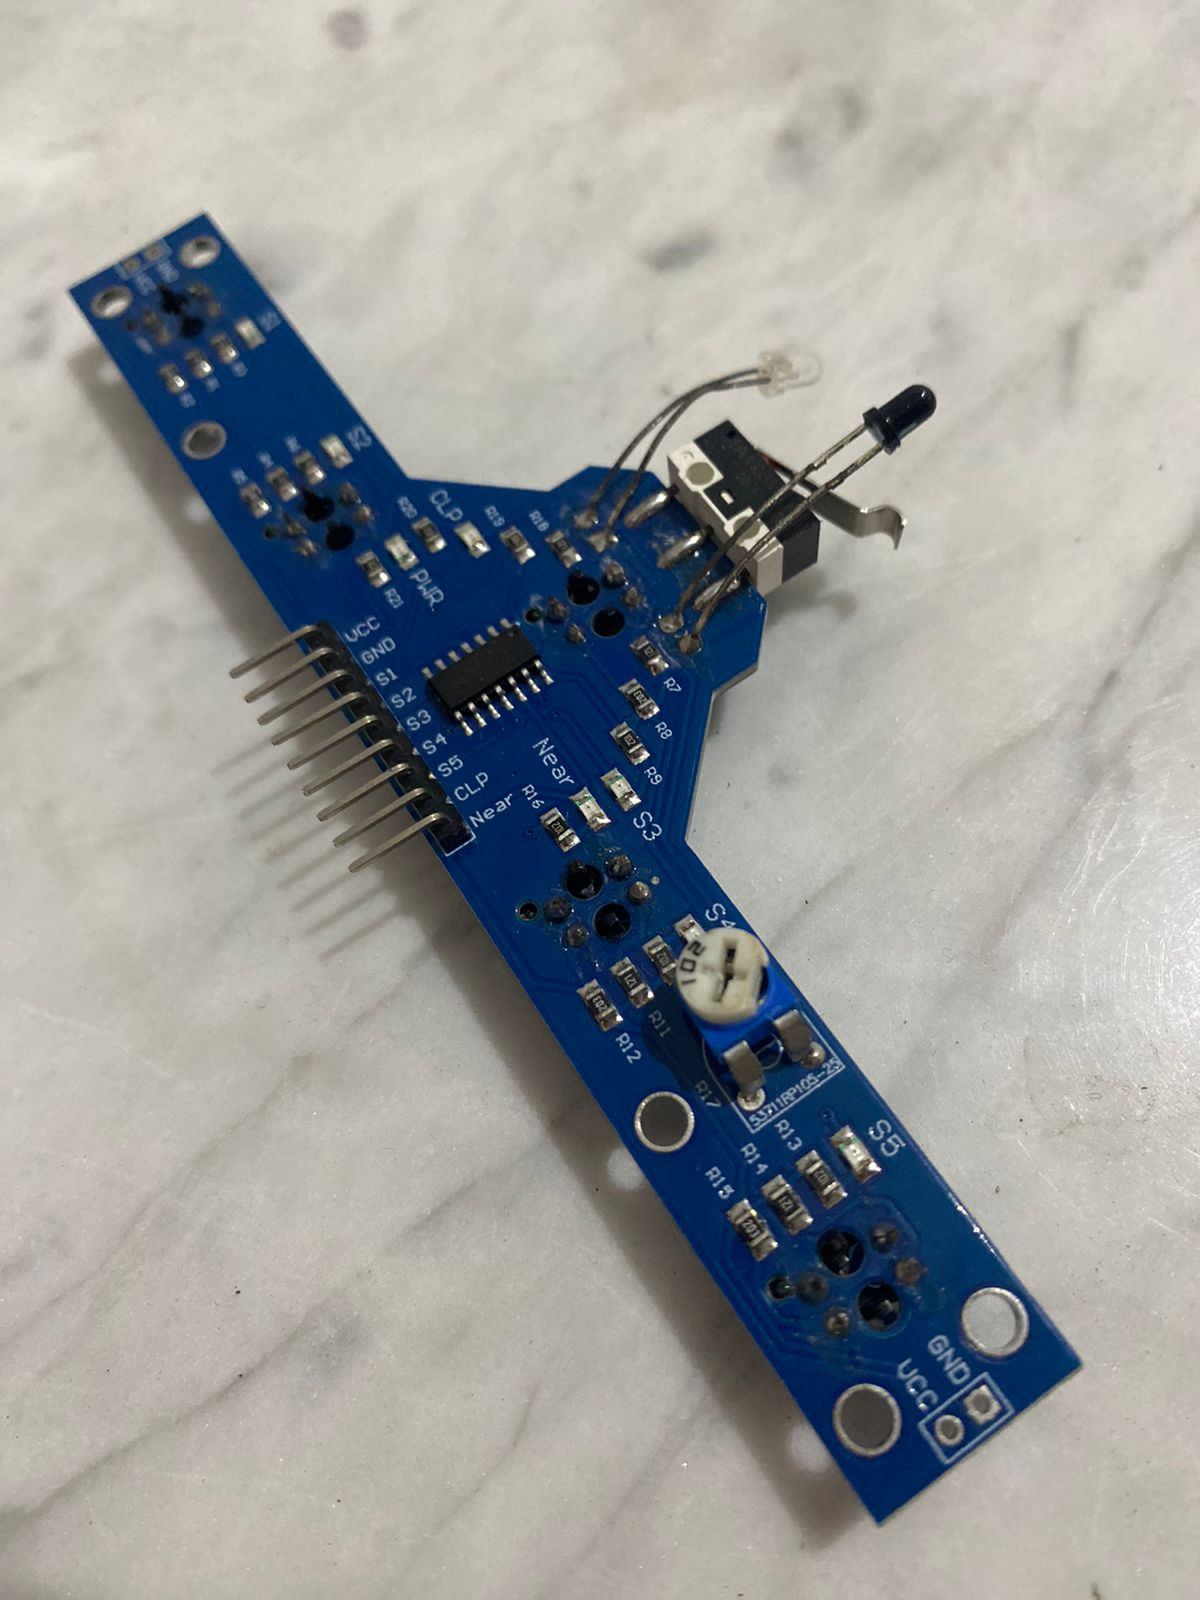Capteur-IR-5 Voies: (66, 208, 1092, 1529)
